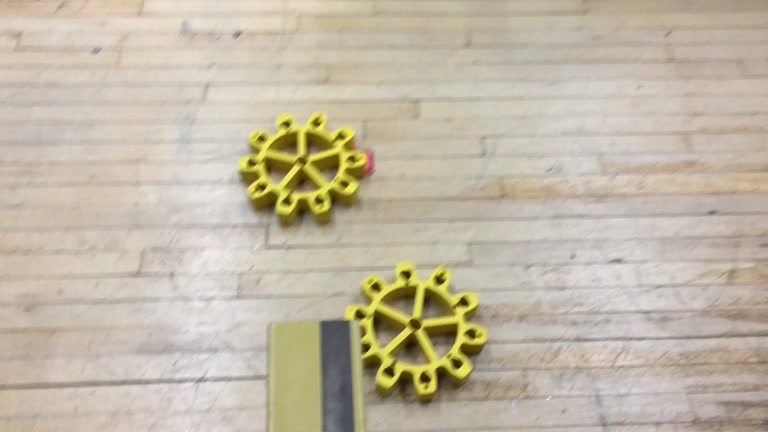gear: (344, 261, 488, 404), (238, 111, 367, 227)
